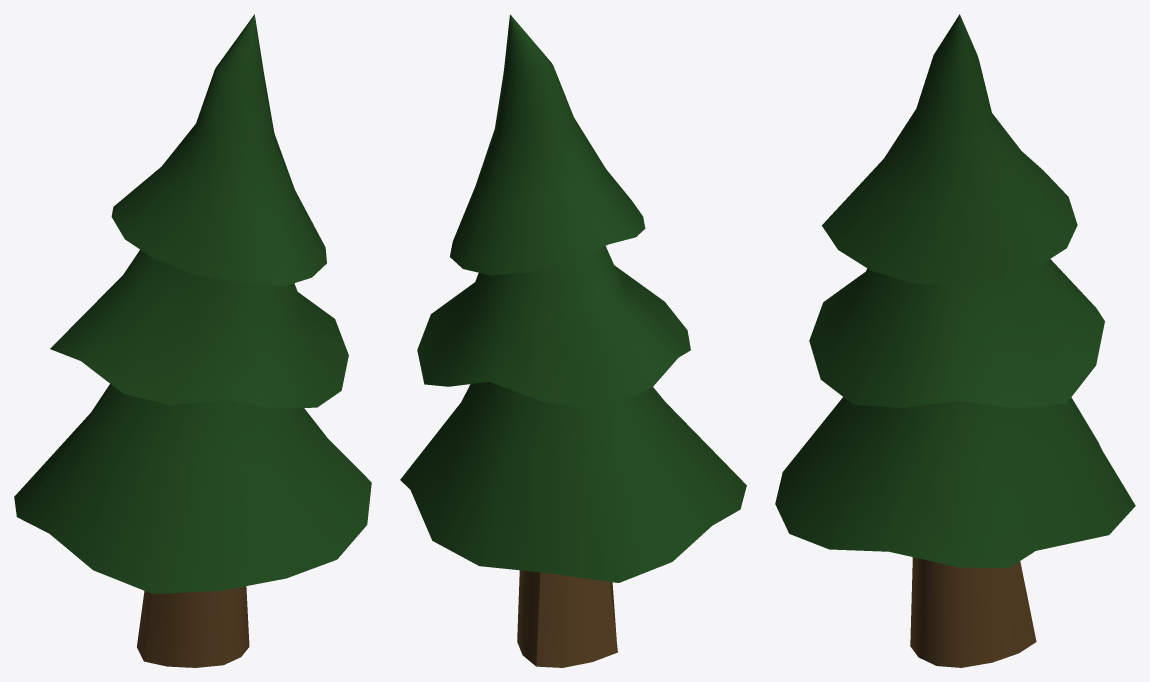
The model's file is Tree1.fbx.
3 views of the same model, side by side, from view 1: azimuth 30°, elevation 25°; view 2: azimuth 150°, elevation 25°; view 3: azimuth 270°, elevation 25° (orthographic). The views are drawn at different scales.
Parts seen in each view (by area): view 1: Cone_2, Stamm; view 2: Cone_2, Stamm; view 3: Cone_2, Stamm.
Part boxes in pixels (bbox=[...]): Cone_2: bbox=[14, 14, 371, 593]; Stamm: bbox=[137, 586, 249, 667]; Cone_2: bbox=[400, 14, 746, 582]; Stamm: bbox=[517, 570, 617, 667]; Cone_2: bbox=[775, 14, 1135, 567]; Stamm: bbox=[910, 557, 1036, 667].
Size of the model in its own units: 312 by 618 by 306.
